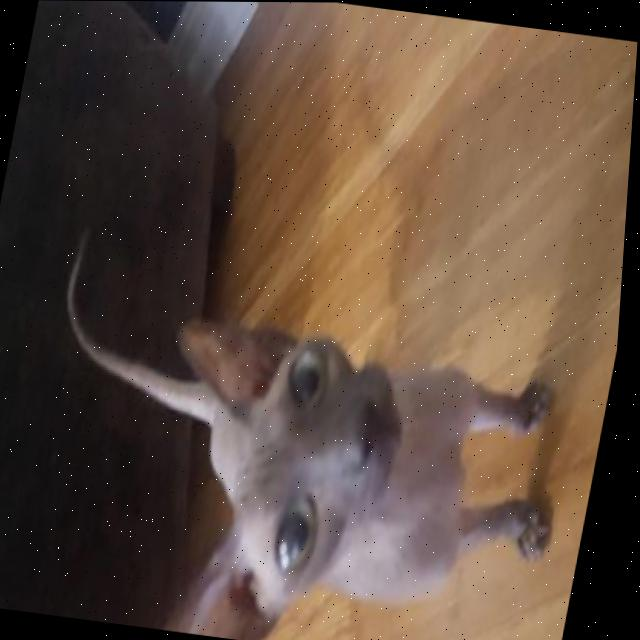Sphynx: (5, 220, 605, 640)
